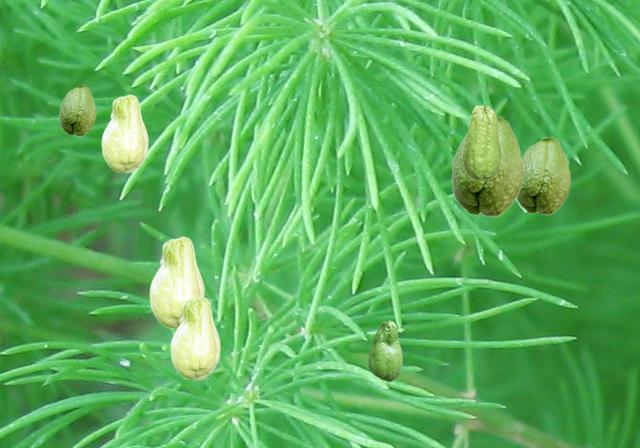sayote: (451, 115, 523, 216), (149, 236, 203, 328), (516, 136, 570, 214), (170, 296, 219, 379), (101, 94, 147, 172), (462, 105, 500, 179), (368, 320, 401, 380), (59, 84, 95, 135)
